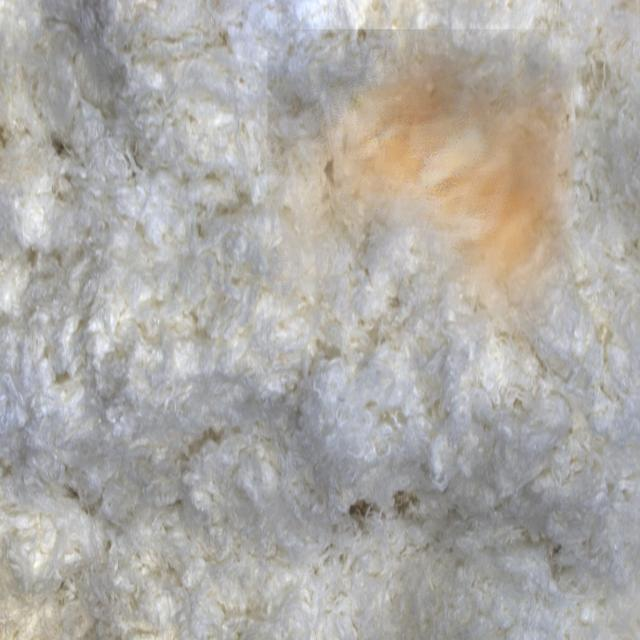dust: (267, 29, 574, 340)
